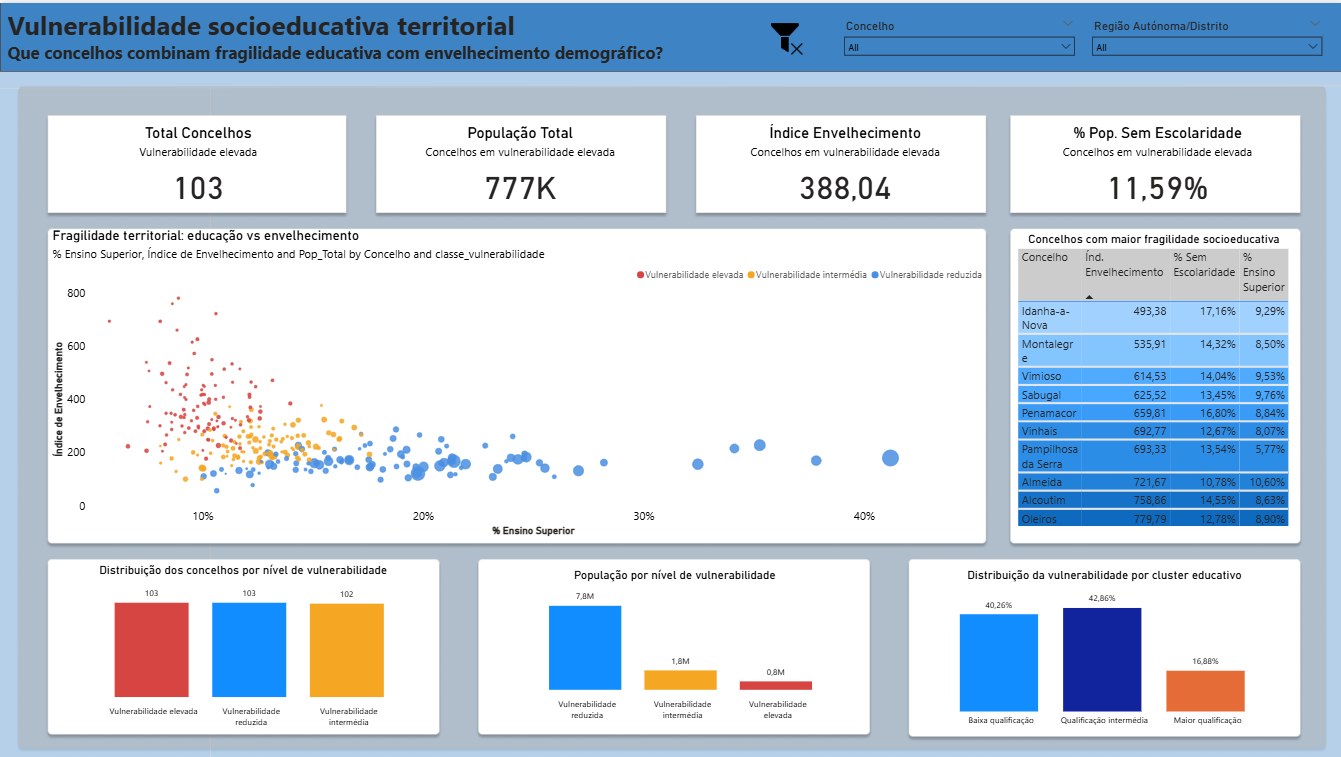

This screenshot's page, from the dashboard's own definition file:
{"tool":"powerbi","page":{"name":"Analise territorial","canvas":[1920,1080],"ordinal":4},"visuals":[{"type":"textbox","box":[5.7,0,1118.6,97.1],"z":0},{"type":"scatterChart","title":"Fragilidade territorial: educação vs envelhecimento","fields":{"X":["Measures (2).Pct_Ensino_Superior_15mais"],"Y":["Measures (2).Indice_Envelhecimento"],"Category":["dim_geografia.Concelho"],"Size":["Measures (2).Pop_Total"],"Series":["concelhos_analitica.classe_vulnerabilidade"]},"box":[70.7,320.7,1343.1,446.6],"z":1000},{"type":"columnChart","title":"Distribuição dos concelhos por nível de vulnerabilidade","fields":{"Y":["CountNonNull(dim_geografia.Concelho)"],"Category":["concelhos_analitica.classe_vulnerabilidade"]},"box":[80,800,535,242.5],"z":2000},{"type":"columnChart","title":"Distribuição da vulnerabilidade por cluster educativo","fields":{"Y":["CountNonNull(concelhos_analitica.Concelho_Vulneravel)"],"Category":["concelhos_analitica.cluster_label"]},"box":[1307.5,807.5,541.2,235],"z":3000},{"type":"card","title":"Total Concelhos","fields":{"Values":["Measures (2).N_Vulnerabilidade_Elevada"]},"box":[135,172.5,295,122.5],"z":4000},{"type":"card","title":"População Total","fields":{"Values":["Measures (2).Pop_Vulneravel"]},"box":[585,172.5,315,122.5],"z":5000},{"type":"card","title":"% Pop. Sem Escolaridade","fields":{"Values":["Measures (2).Avg_pct_sem_escolaridade_vulneraveis"]},"box":[1508.8,172.5,290,122.5],"z":6000},{"type":"columnChart","title":"População por nível de vulnerabilidade","fields":{"Y":["Measures (2).Pop_Total"],"Category":["concelhos_analitica.classe_vulnerabilidade"]},"box":[702.5,807.5,522.5,225],"z":7000},{"type":"tableEx","title":"Concelhos com maior fragilidade socioeducativa","fields":{"Values":["dim_geografia.Concelho","Measures (2).Indice_Envelhecimento","Measures (2).Pct_Sem_Escolaridade_15mais","Measures (2).Pct_Ensino_Superior_15mais"]},"box":[1448.3,327.6,400,439.7],"z":8000},{"type":"card","title":"Índice Envelhecimento","fields":{"Values":["Measures (2).Avg_Indice_Envelhecimento_Vulneraveis"]},"box":[1030,172.5,355,122.5],"z":9000},{"type":"image","box":[1102,26,45,51.2],"z":10000},{"type":"slicer","fields":{"Values":["dim_geografia.Territorio_Admin"]},"box":[1550,17.1,348.6,60],"z":11000},{"type":"slicer","fields":{"Values":["dim_geografia.Concelho"]},"box":[1195.7,17.1,350,60],"z":12000}]}

Visuals, with their boxes in screenshot pixels (x1, y1, x2, y2), scaled from the page's 1920x1080 canvas onto the 1341x757 screenshot:
textbox: [4, 0, 785, 68]
"Fragilidade territorial: educação vs envelhecimento" scatterChart: [49, 225, 987, 538]
"Distribuição dos concelhos por nível de vulnerabilidade" columnChart: [56, 561, 430, 731]
"Distribuição da vulnerabilidade por cluster educativo" columnChart: [913, 566, 1291, 731]
"Total Concelhos" card: [94, 121, 300, 207]
"População Total" card: [409, 121, 629, 207]
"% Pop. Sem Escolaridade" card: [1054, 121, 1256, 207]
"População por nível de vulnerabilidade" columnChart: [491, 566, 856, 724]
"Concelhos com maior fragilidade socioeducativa" tableEx: [1012, 230, 1291, 538]
"Índice Envelhecimento" card: [719, 121, 967, 207]
image: [770, 18, 801, 54]
slicer - dim_geografia.Territorio_Admin: [1083, 12, 1326, 54]
slicer - dim_geografia.Concelho: [835, 12, 1080, 54]
